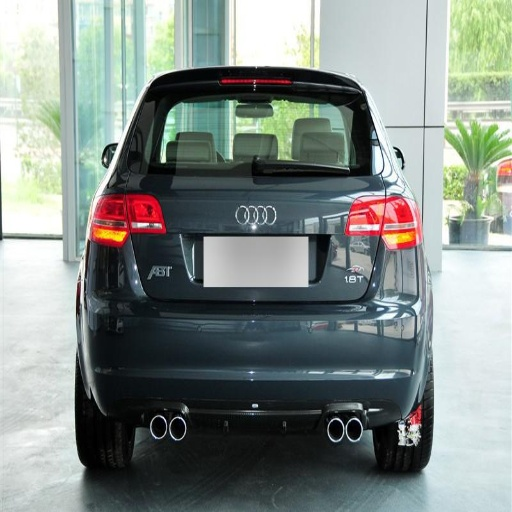_background_: (77, 243, 429, 430)
back_bumper: (125, 84, 384, 173)
back_left_door: (90, 191, 132, 247)
back_right_door: (381, 195, 420, 250)
right_mirror: (124, 174, 376, 301)
tailgate: (135, 171, 386, 263)
trunk: (375, 403, 432, 471), (78, 415, 132, 469)
